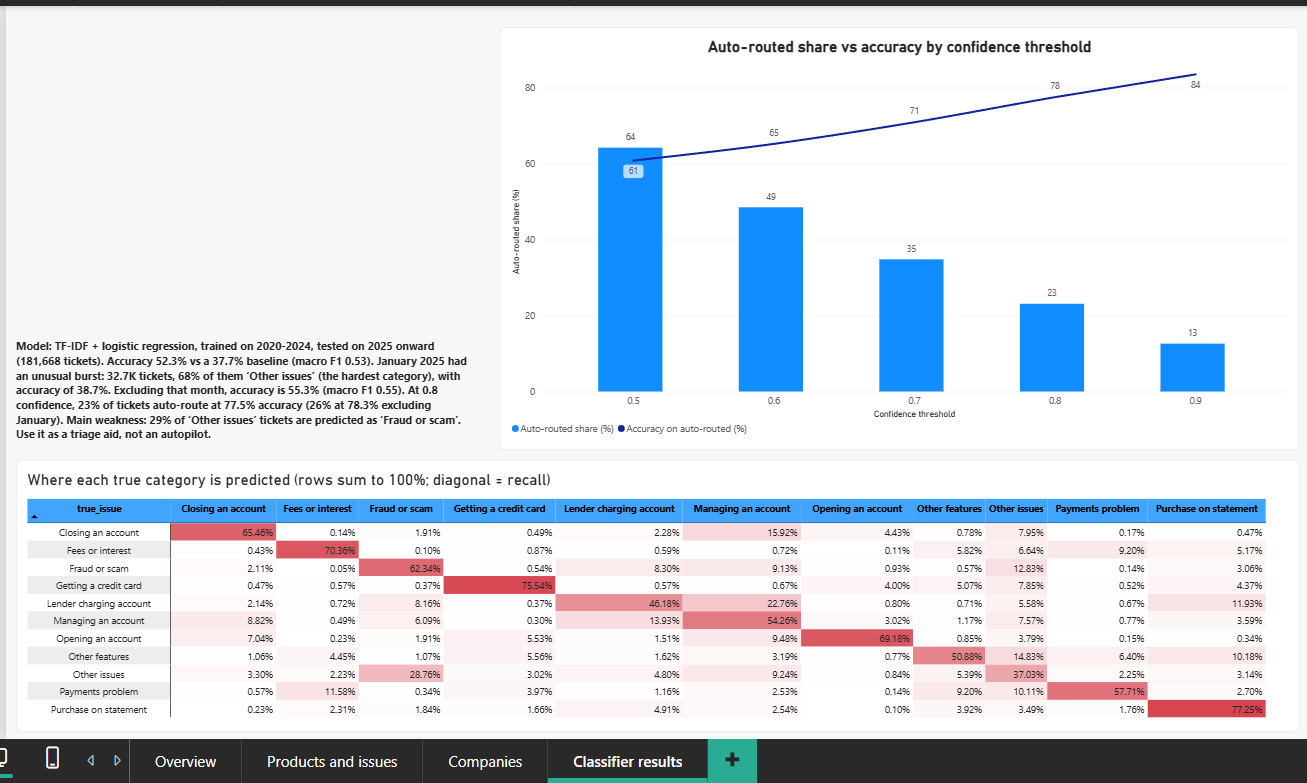

The page's visual inventory and layout, read from the dashboard file:
{"tool":"powerbi","page":{"name":"Classifier results","canvas":[1920,1080],"ordinal":3},"visuals":[{"type":"lineClusteredColumnComboChart","title":"Auto-routed share vs accuracy by confidence threshold","fields":{"Category":["threshold_tradeoff.threshold"],"Y":["Sum(threshold_tradeoff.auto_routed_pct)"],"Y2":["Sum(threshold_tradeoff.accuracy_on_auto_routed_pct)"]},"box":[726.6,30.9,1176.3,622.5],"z":0},{"type":"pivotTable","title":"Where each true category is predicted (rows sum to 100%; diagonal = recall)","fields":{"Columns":["confusion_long.predicted_issue"],"Rows":["confusion_long.true_issue"],"Values":["confusion_long.Row share"]},"box":[14.5,667.8,1889.3,399.9],"z":1000},{"type":"textbox","box":[14.4,489.9,679.2,162.6],"z":2000}]}

Visuals, with their boxes on the page's 1920x1080 design canvas (x1, y1, x2, y2). These are canvas units, not pixel positions in the 1307x783 screenshot, which may show the page scaled, cropped or inside an application window:
"Auto-routed share vs accuracy by confidence threshold" lineClusteredColumnComboChart: rect(727, 31, 1903, 653)
"Where each true category is predicted (rows sum to 100%; diagonal = recall)" pivotTable: rect(14, 668, 1904, 1068)
textbox: rect(14, 490, 694, 652)
